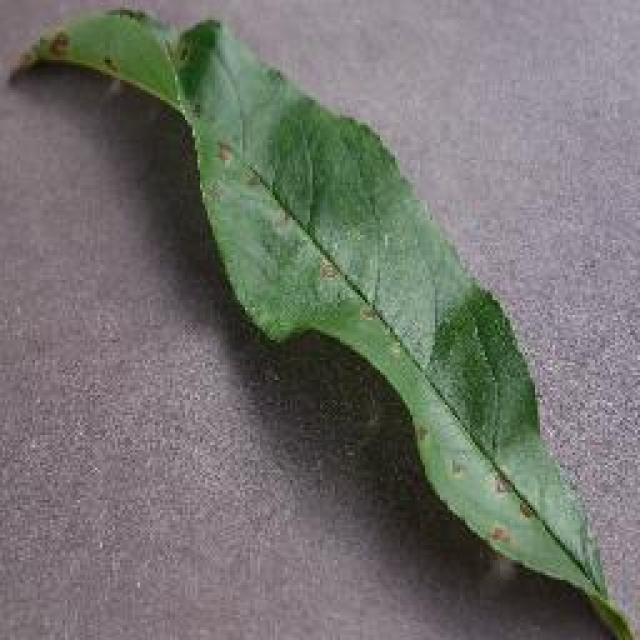Peach_Bacterial_Spot: (38, 18, 267, 207)
